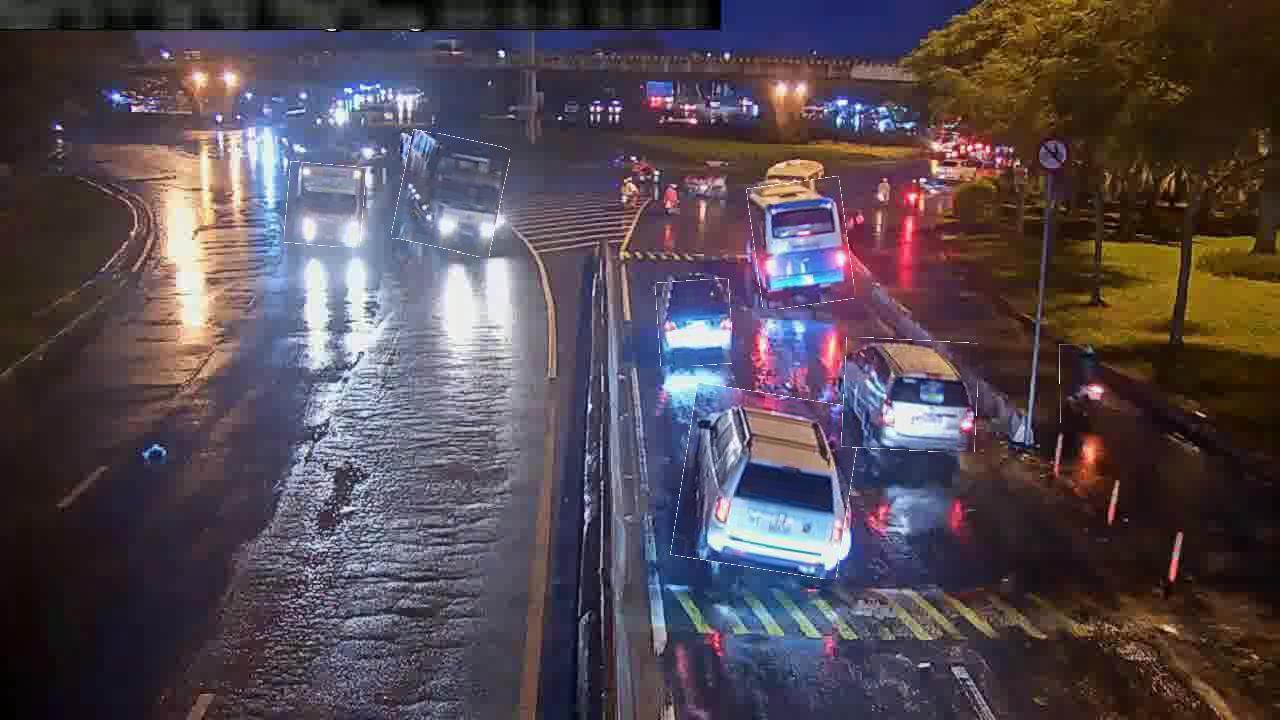car: (677, 389, 856, 575), (843, 338, 978, 452), (657, 279, 732, 366)
container: (396, 134, 506, 254), (286, 163, 365, 247)
motorbike: (1060, 344, 1105, 424)
passenger_car: (750, 179, 851, 308)
